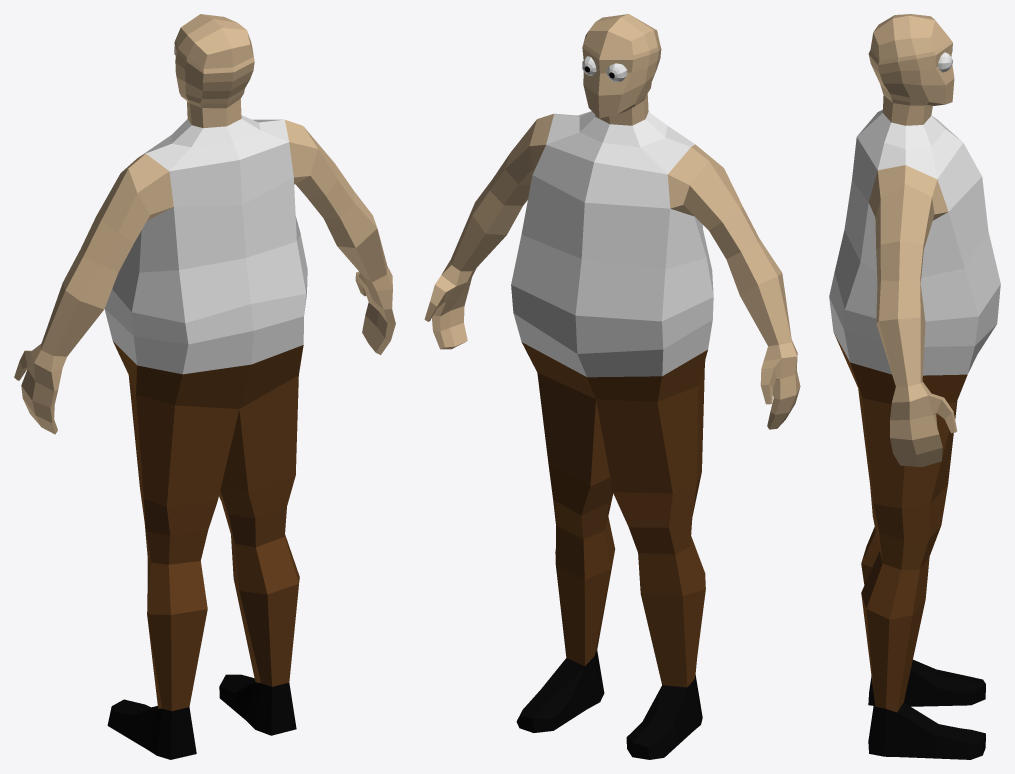
The model's file is VRInstructor.fbx.
The picture shows the model from 3 angles, left to right: view 1: azimuth 30°, elevation 25°; view 2: azimuth 150°, elevation 25°; view 3: azimuth 270°, elevation 25°; orthographic projection.
Visible parts, largest first — view 1: Instructor; view 2: Instructor; view 3: Instructor.
Part boxes in pixels (bbox=[...]): Instructor: bbox=[14, 14, 395, 759]; Instructor: bbox=[424, 14, 800, 759]; Instructor: bbox=[829, 14, 1000, 759].
Size of the model in its own units: 2.96 by 1.23 by 5.6.
